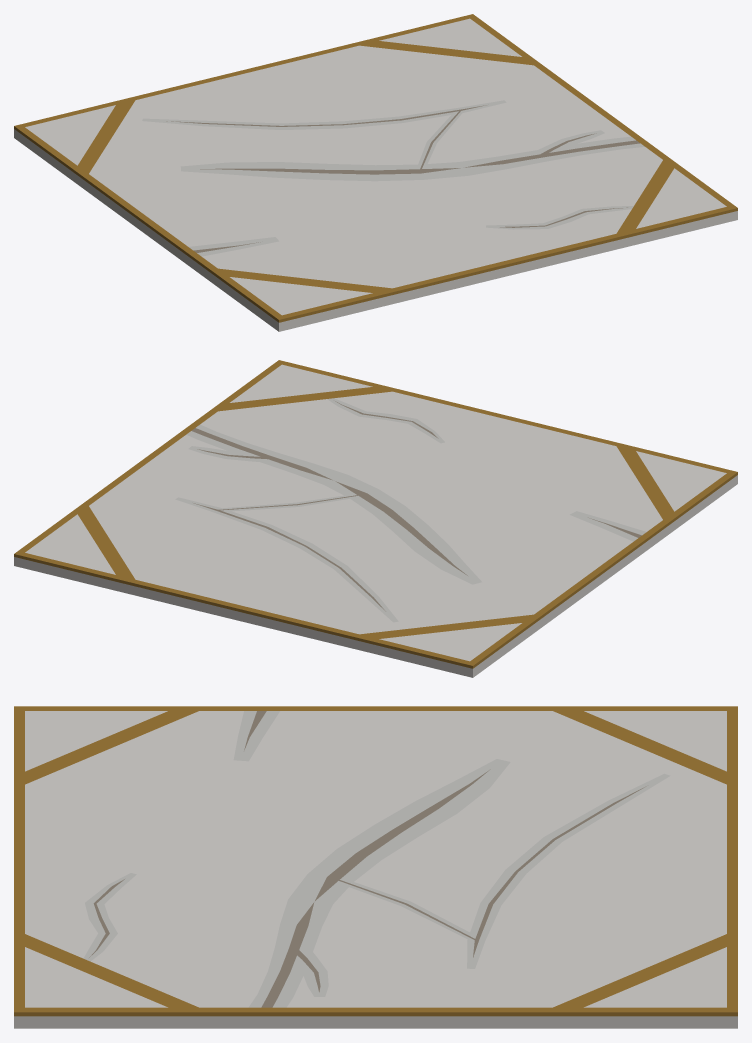
File: marble-inlay-floor-tile-12f451.glb
3 renders of one model, top to bottom at view 1: azimuth 30°, elevation 25°; view 2: azimuth 150°, elevation 25°; view 3: azimuth 270°, elevation 25°, orthographic. The views are drawn at different scales.
Visible parts, largest first — view 1: tile-slab; view 2: tile-slab; view 3: tile-slab.
Part boxes in pixels (bbox=[...]): tile-slab: bbox=[14, 14, 737, 331]; tile-slab: bbox=[14, 360, 737, 677]; tile-slab: bbox=[14, 706, 737, 1028].
Size of the model in its own units: 2 by 0.05 by 2.
